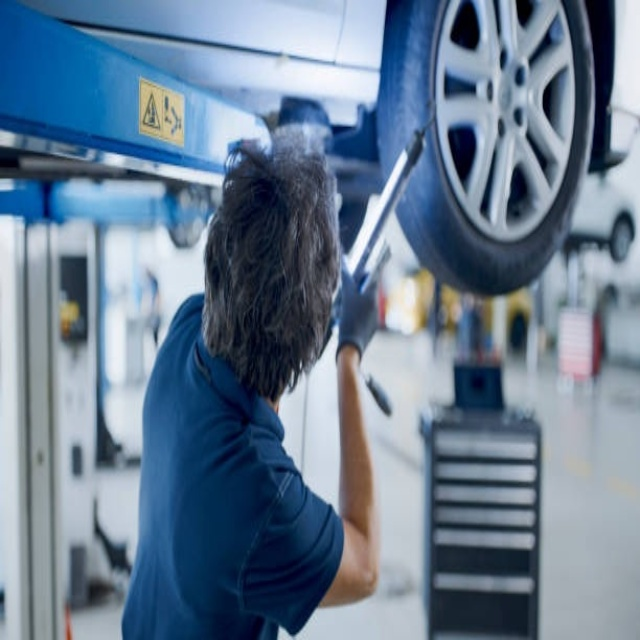Guantes: (335, 253, 381, 364)
